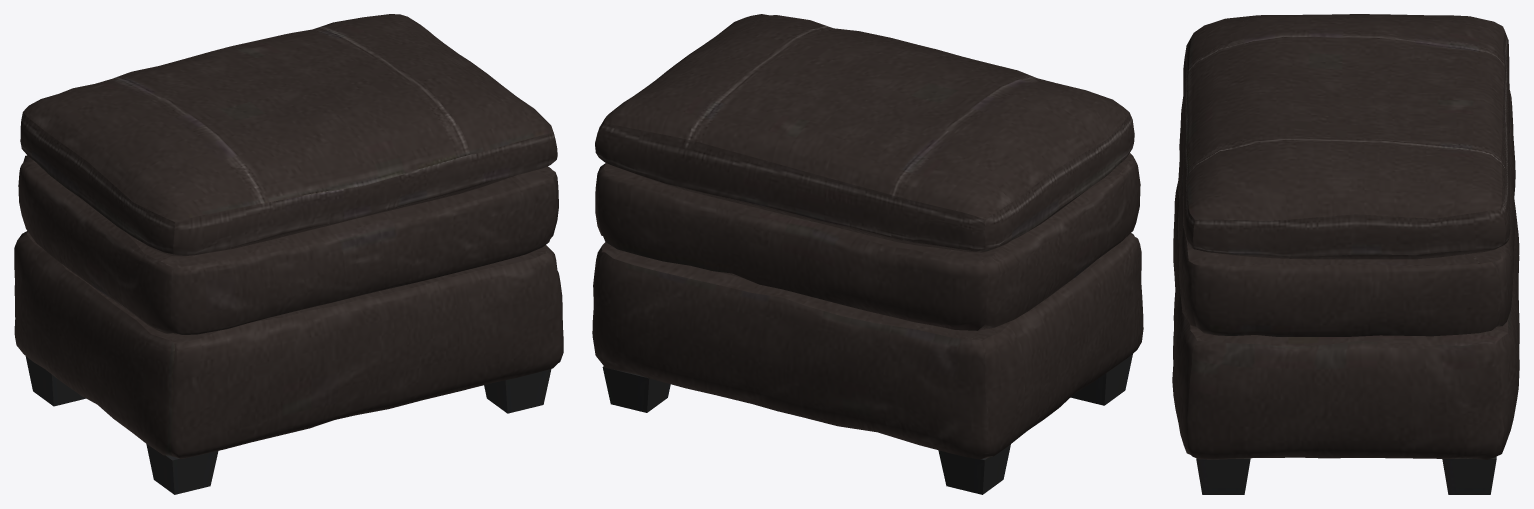
File: Ottoman_01.glb
3 views of the same model, side by side, from view 1: azimuth 30°, elevation 25°; view 2: azimuth 150°, elevation 25°; view 3: azimuth 270°, elevation 25° (orthographic).
Visible parts, largest first — view 1: Ottoman_01; view 2: Ottoman_01; view 3: Ottoman_01.
Boxes of the visible parts, bbox=[...] form: Ottoman_01: bbox=[14, 14, 563, 494]; Ottoman_01: bbox=[592, 14, 1143, 494]; Ottoman_01: bbox=[1172, 14, 1519, 494].
Size of the model in its own units: 0.8846 by 0.6244 by 0.621.
Materials: 1 (1 with a texture image).
